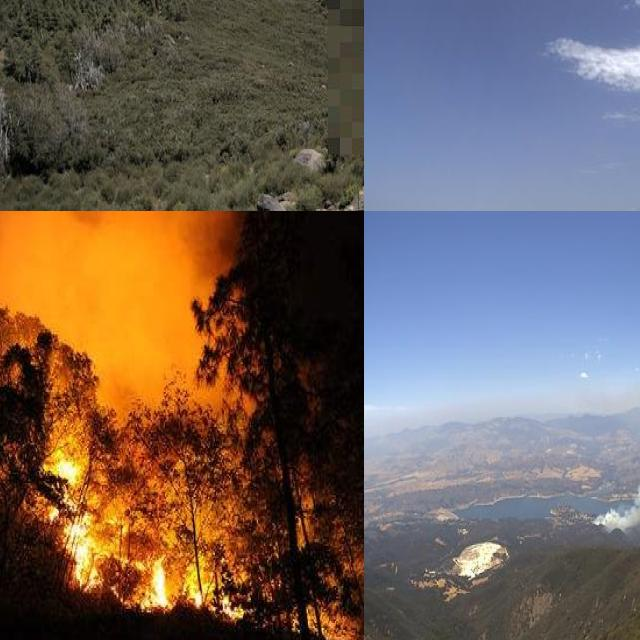fire: (31, 416, 345, 638)
smoke: (0, 211, 260, 409), (586, 371, 640, 537)
